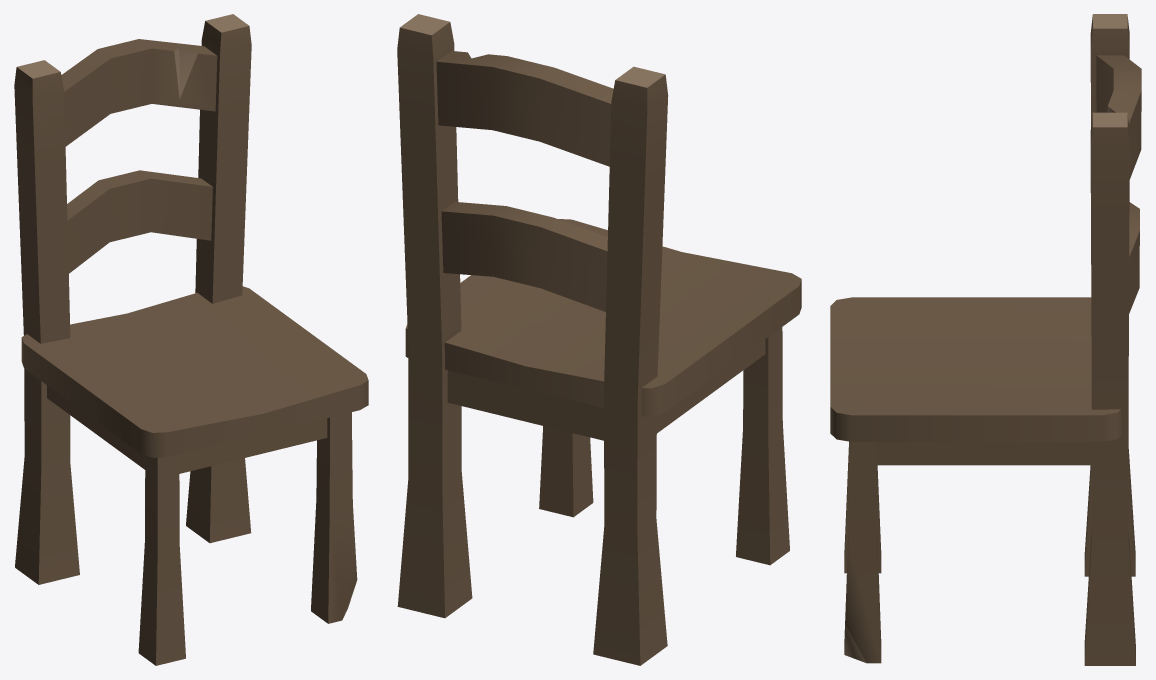
The model's file is 21_LP_Chair.fbx.
3 views of the same model, side by side, from view 1: azimuth 30°, elevation 25°; view 2: azimuth 150°, elevation 25°; view 3: azimuth 270°, elevation 25° (orthographic). The views are drawn at different scales.
Visible parts, largest first — view 1: Chair; view 2: Chair; view 3: Chair.
Boxes of the visible parts, x1=… form: Chair: x1=14, y1=14, x2=368, y2=665; Chair: x1=397, y1=14, x2=801, y2=665; Chair: x1=830, y1=14, x2=1141, y2=665.
Size of the model in its own units: 52.31 by 112 by 58.42.
